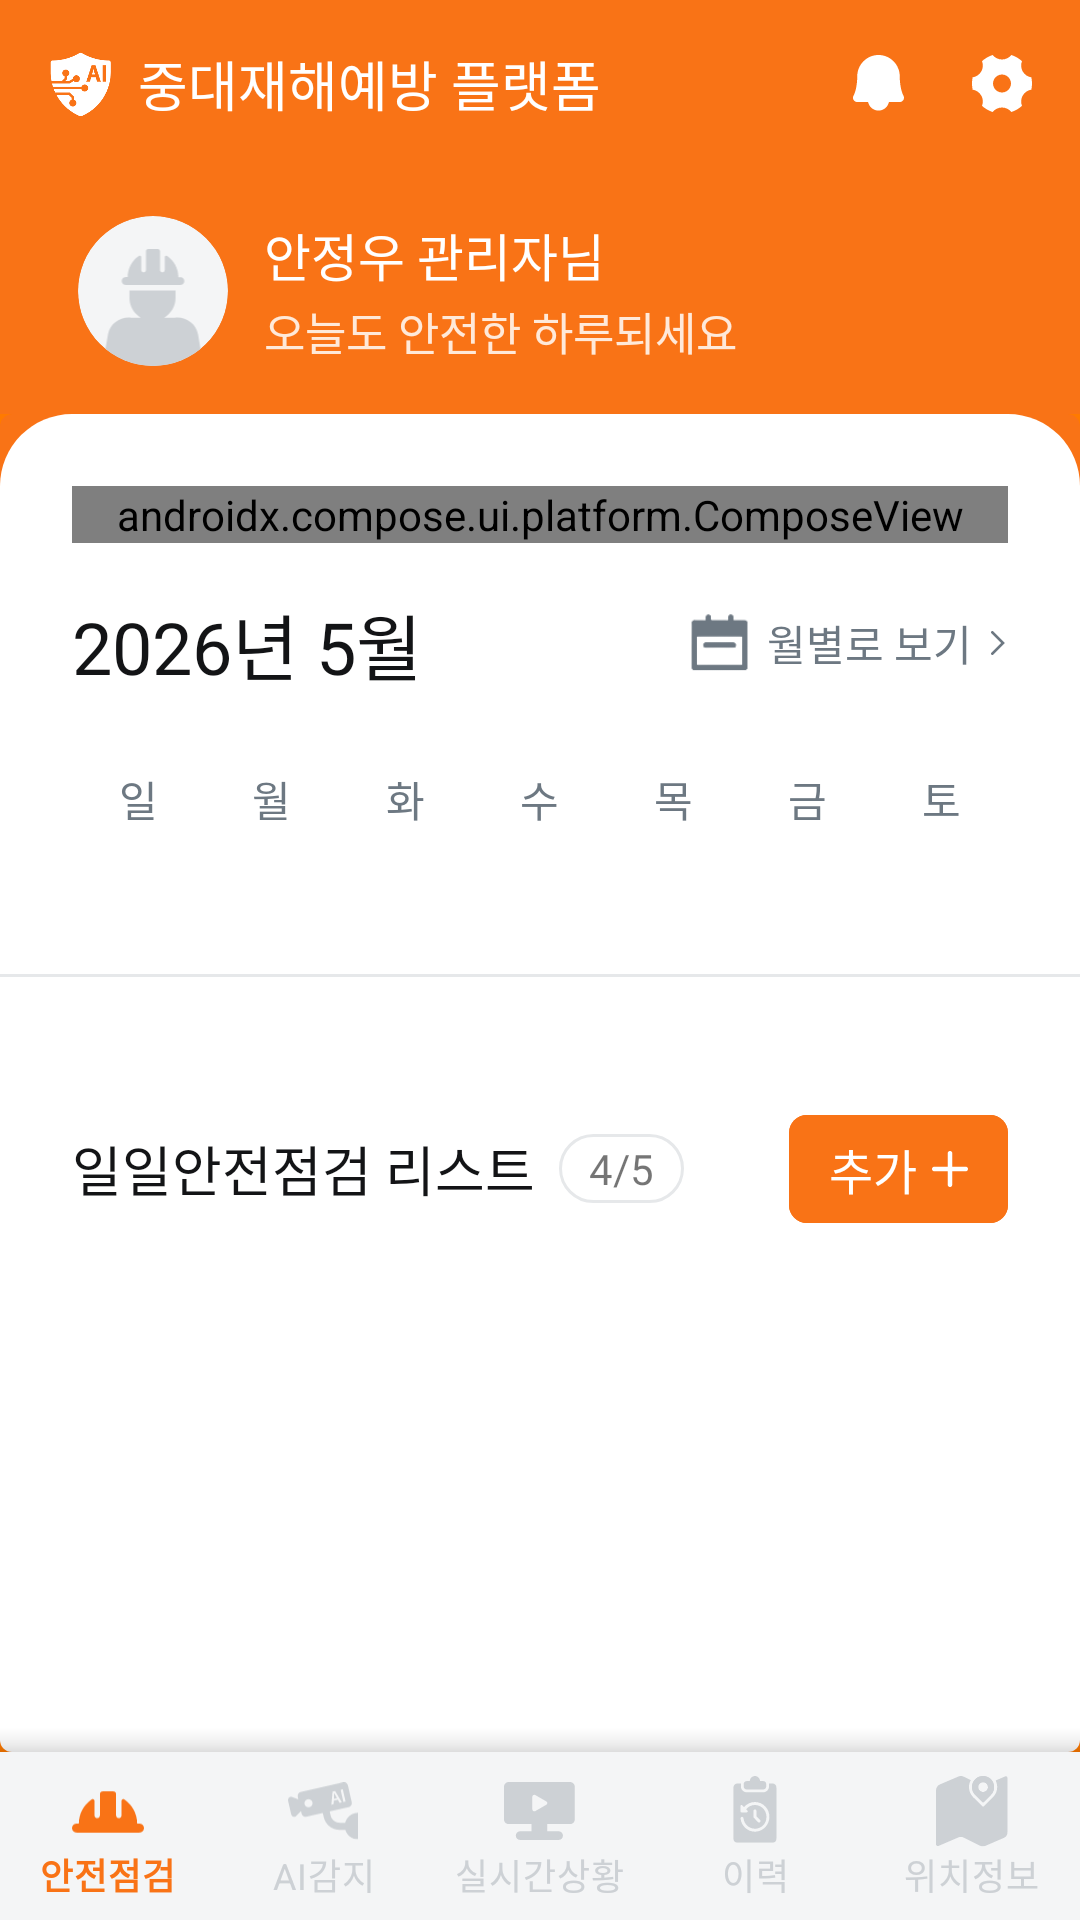

Icon bounding boxes for this 1080*1920 phone screenshot, format (x1, y1, x2, y2):
calendar: (691, 614, 748, 670)
profile: (78, 216, 228, 366)
설정: (972, 55, 1032, 112)
알림: (853, 55, 904, 111)
